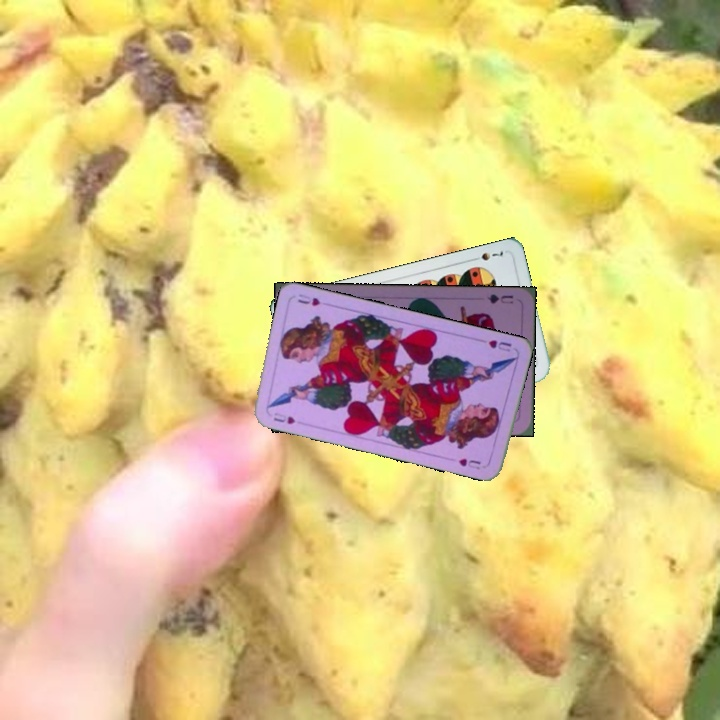GU: (483, 290, 516, 306)
HU: (269, 408, 298, 427), (485, 336, 514, 354)
S7: (467, 245, 506, 263)
